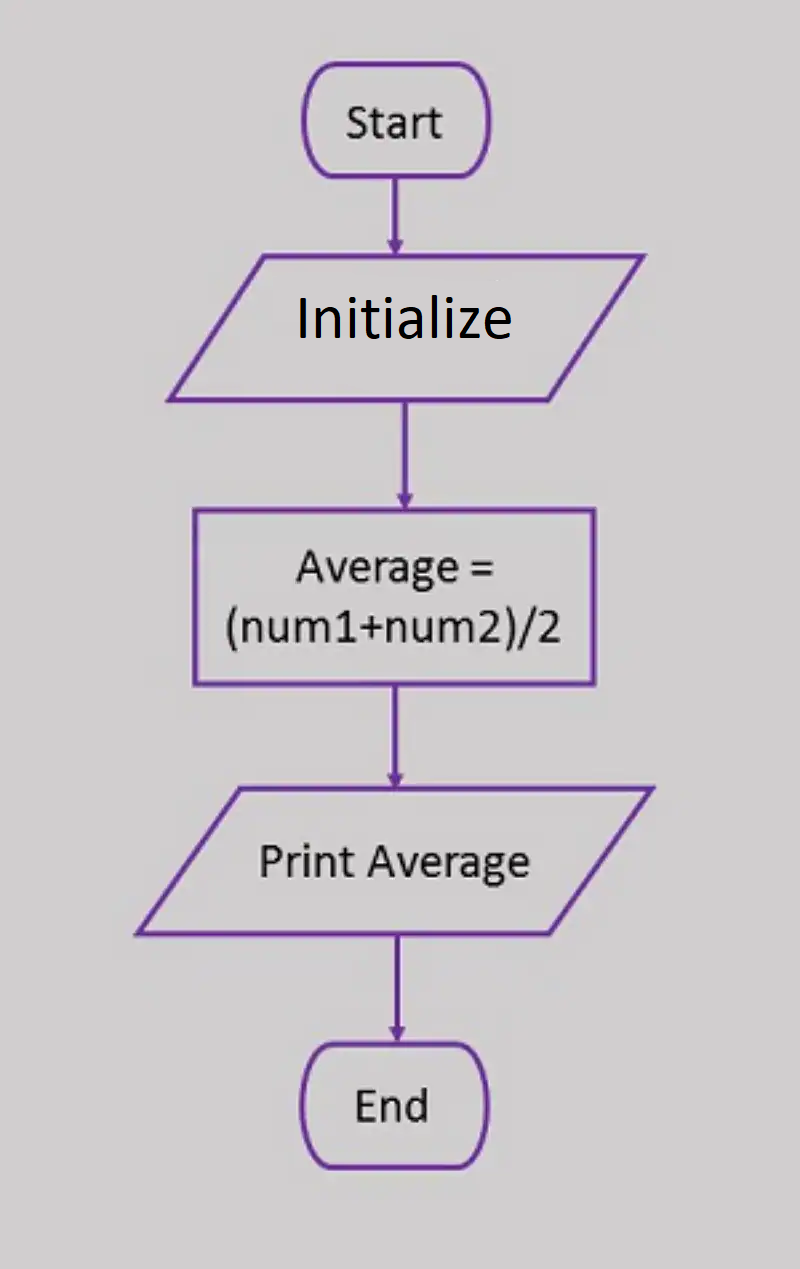arrow: (379, 672, 410, 791), (391, 393, 421, 510), (383, 928, 410, 1045), (381, 168, 410, 262)
data: (131, 780, 656, 945), (160, 245, 656, 410)
process: (185, 499, 606, 695)
terminator: (293, 1035, 493, 1176), (296, 56, 496, 187)
text: (219, 545, 566, 657), (250, 837, 531, 889), (287, 289, 518, 345), (335, 99, 448, 143), (344, 1082, 435, 1130)
